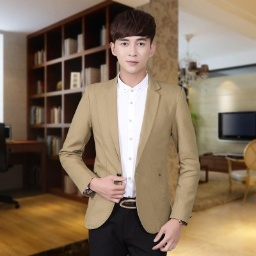face: (111, 8, 157, 74)
